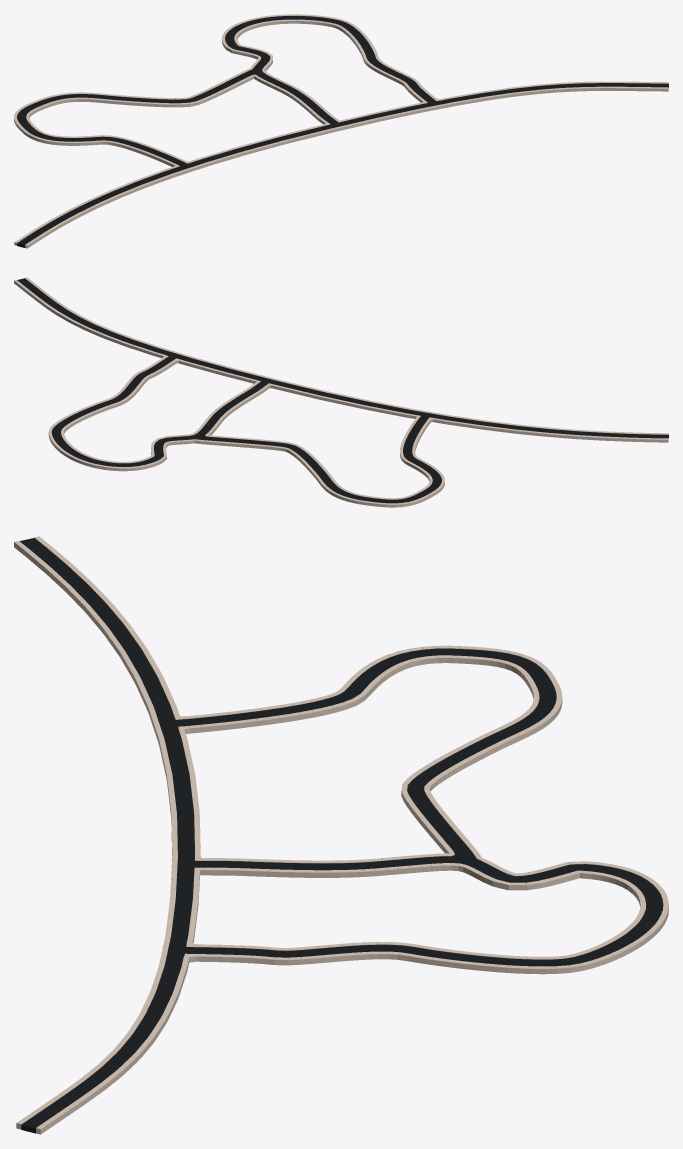
Rendered from road and sidewalks.glb.
The picture shows the model from 3 angles, top to bottom: view 1: azimuth 30°, elevation 25°; view 2: azimuth 150°, elevation 25°; view 3: azimuth 270°, elevation 25°; orthographic projection. The views are drawn at different scales.
Parts seen in each view (by area): view 1: roadsNsidewalks -col; view 2: roadsNsidewalks -col; view 3: roadsNsidewalks -col.
Part boxes in pixels (x1,y1,x2,y2): roadsNsidewalks -col: [14, 14, 668, 248]; roadsNsidewalks -col: [14, 277, 668, 507]; roadsNsidewalks -col: [14, 536, 668, 1134].
Size of the model in its own units: 492 by 2.24 by 230.
Materials: 2 (2 with a texture image).
